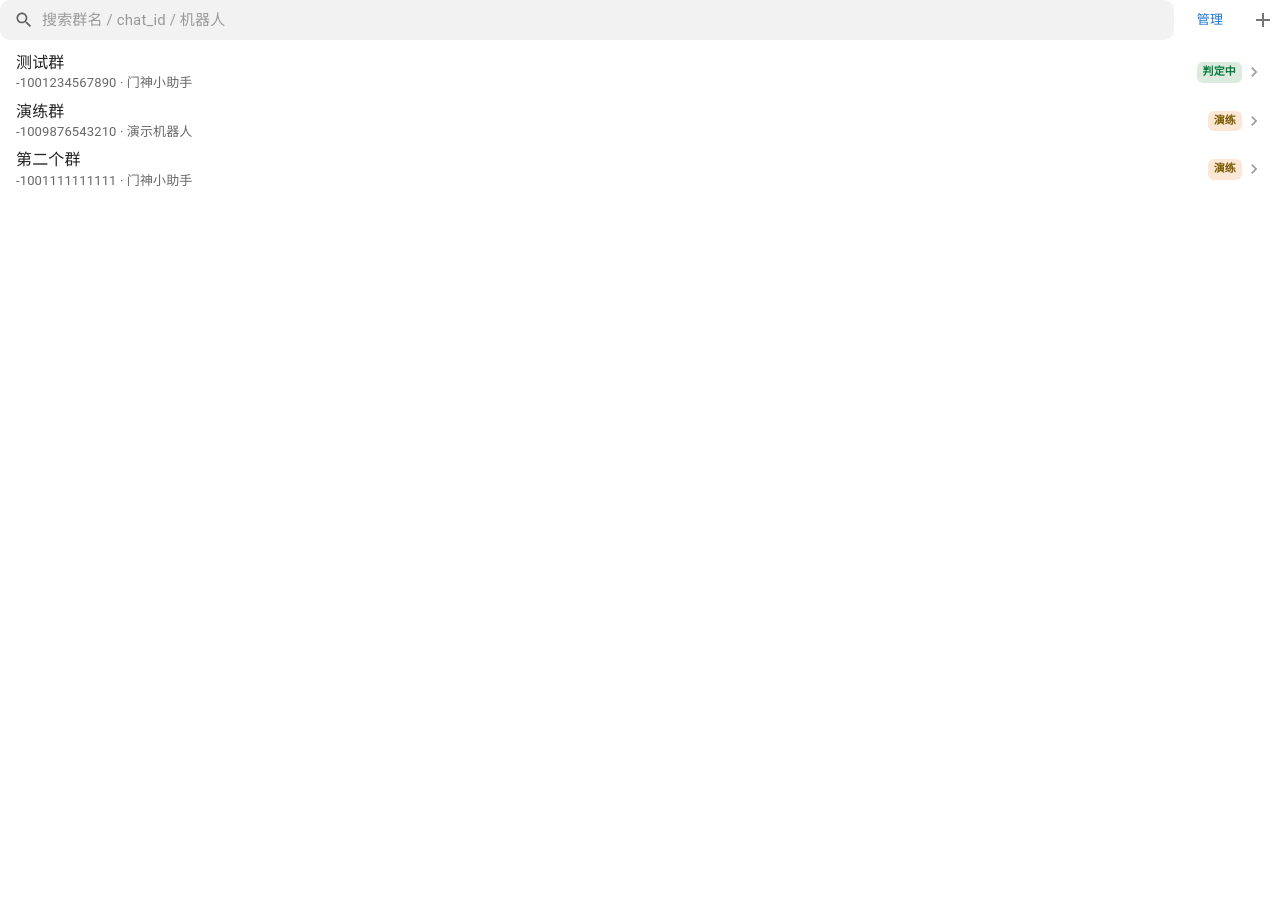
Test: ChatsPage › 添加群：提交 bot_id/chat_id/action，成功 toast 服务端 note
Expected: the text "测试群" is shown, x1=16 y1=53 x2=64 y2=72
Click the button named "添加群": (1263, 20) x1=1246 y1=3 x2=1279 y2=37
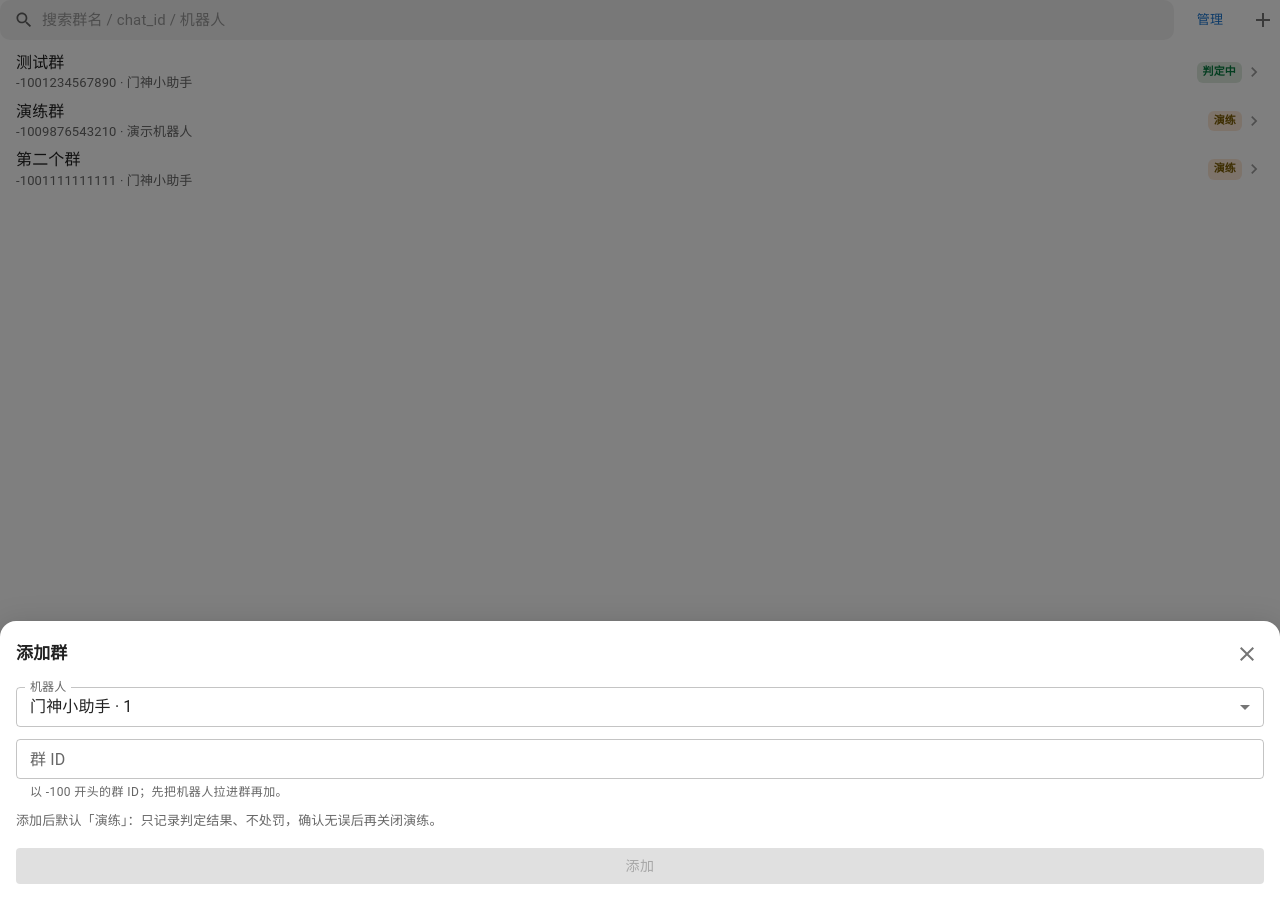
Expected: the text "添加后默认「演练」：只记录判定结果、不处罚，确认无误后再关闭演练。" is shown, x1=16 y1=813 x2=442 y2=828
In the field labelled "群 ID": (640, 759) x1=16 y1=739 x2=1264 y2=779, type "-1005555555555"
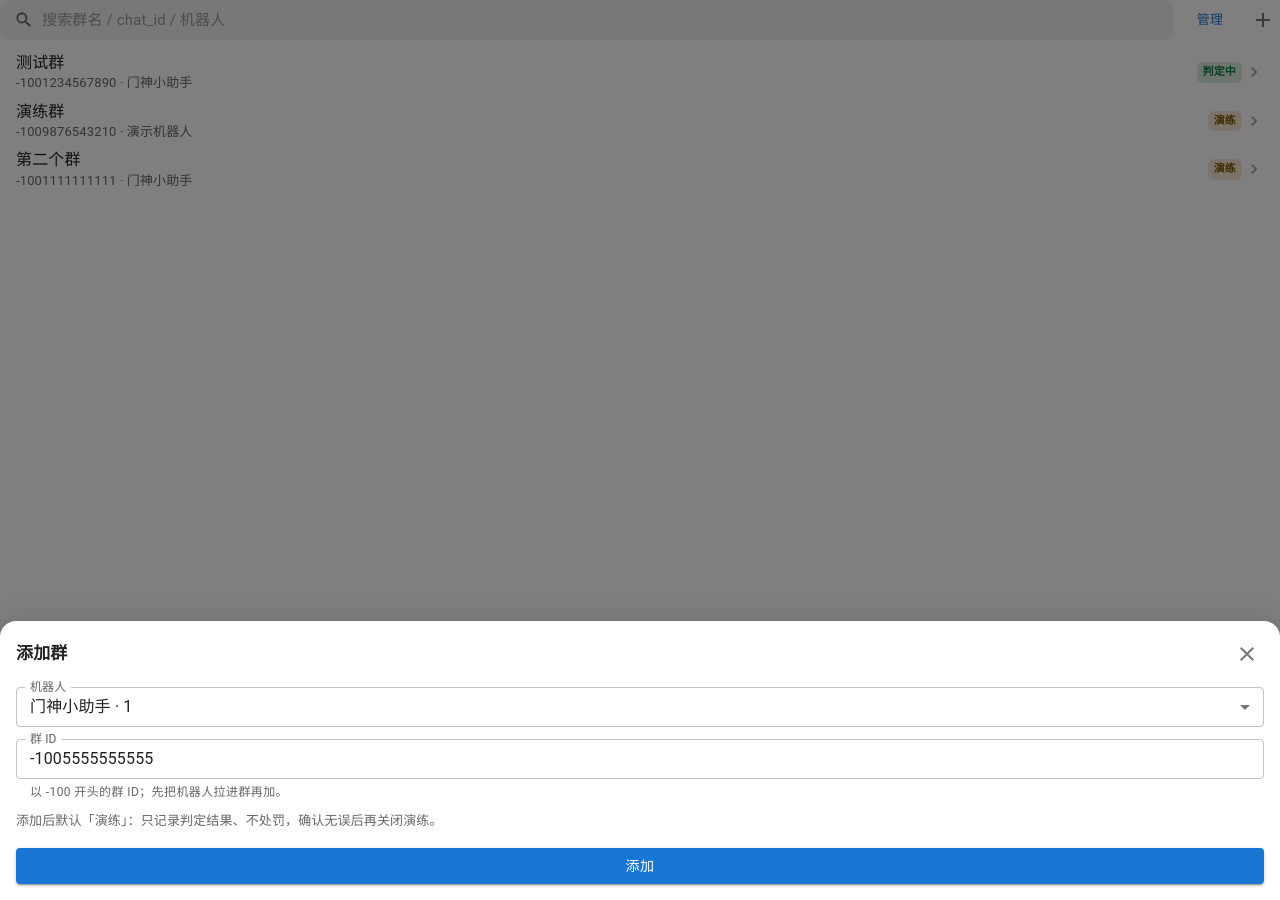
Click the button "添加": (640, 866) x1=16 y1=848 x2=1264 y2=884
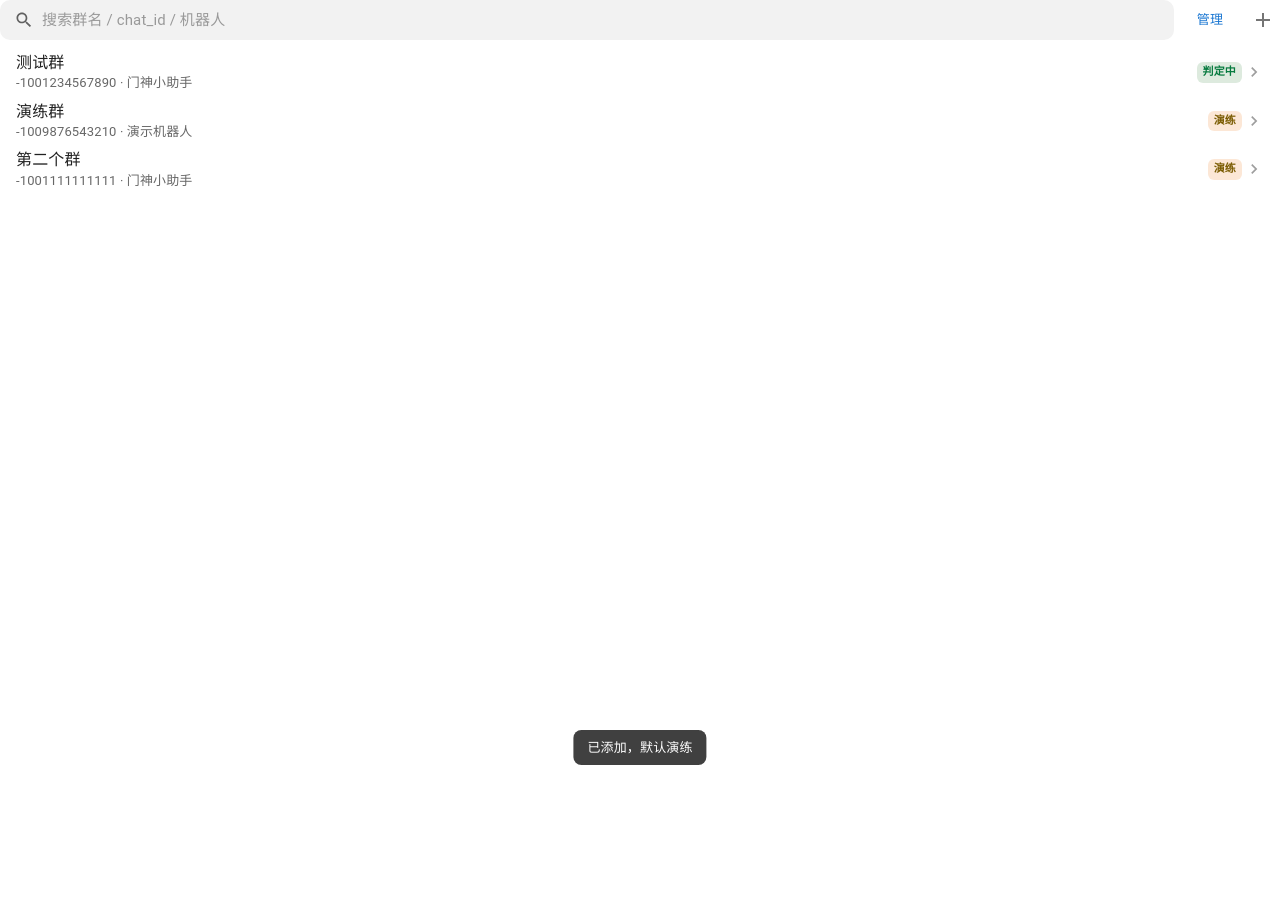
Expected: the text "已添加，默认演练" is shown, x1=573 y1=730 x2=707 y2=765
